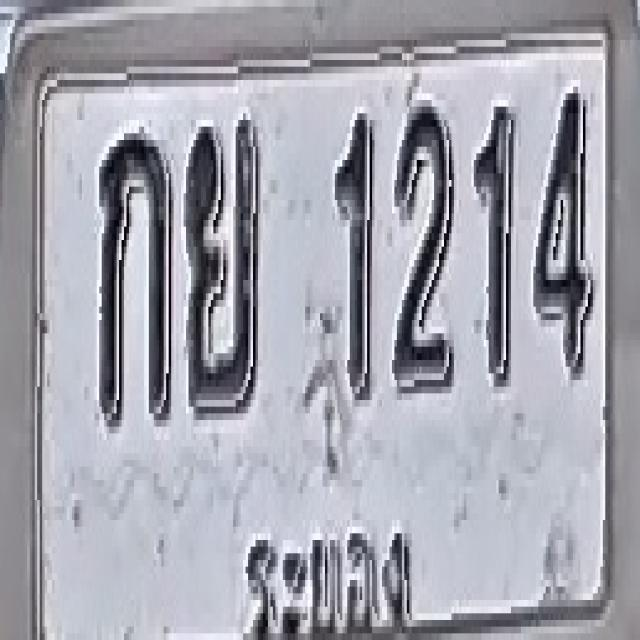-: (183, 116, 260, 416), (98, 126, 172, 426)
1: (474, 100, 516, 387), (334, 110, 373, 403)
2: (392, 100, 454, 393)
4: (533, 83, 593, 377)
